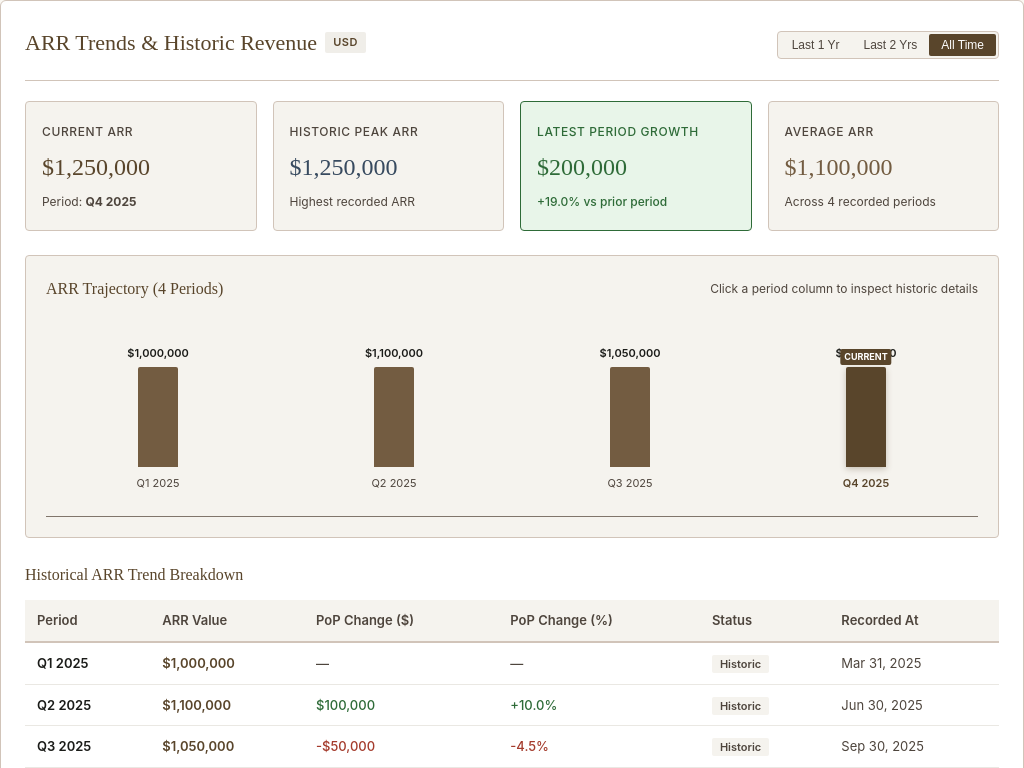
ArrTrendChart Component & Utilities › Component Rendering › handles clicking a column bar to select a period and display detail card
Step 1. Click the button with test id "arr-trend-chart-bar-2025-Q2" → (394, 418), box left=365, top=346, right=423, bottom=490
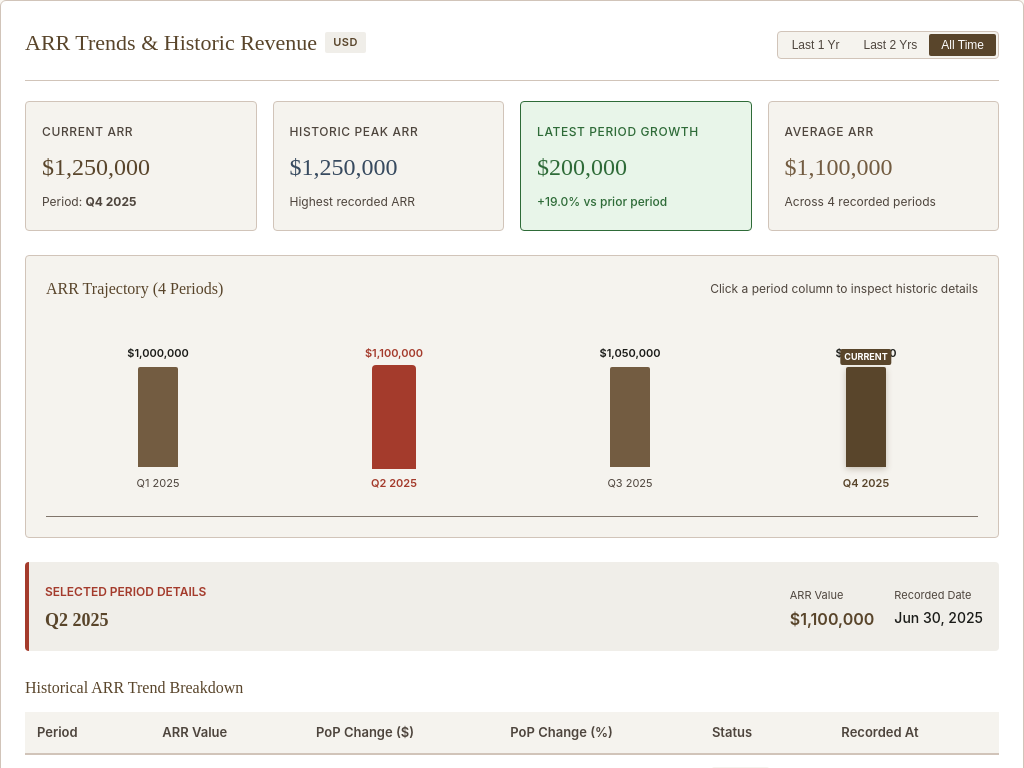
Check: the element with test id "arr-trend-chart-selected-detail" is shown, box left=25, top=562, right=999, bottom=651
Check: the heading with test id "arr-trend-chart-selected-period-name" reads "Q2 2025", box left=45, top=610, right=108, bottom=630
Check: the text with test id "arr-trend-chart-selected-arr-val" reads "$1,100,000", box left=790, top=608, right=874, bottom=628
